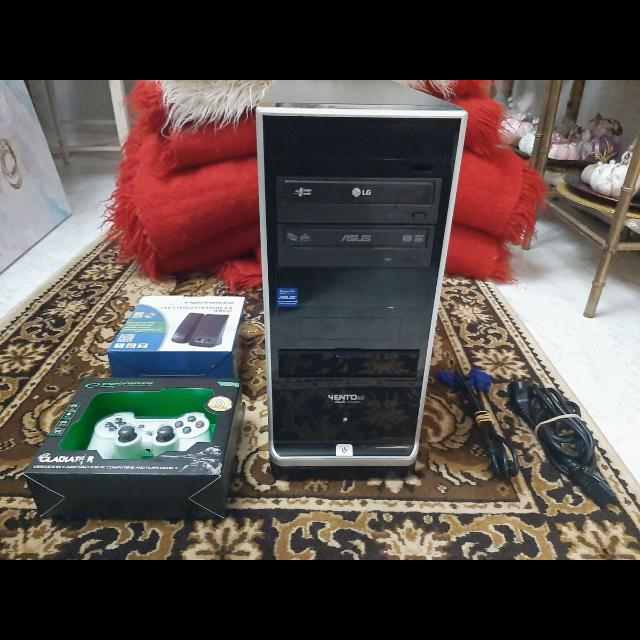Desktop-PC: (255, 80, 465, 466)
